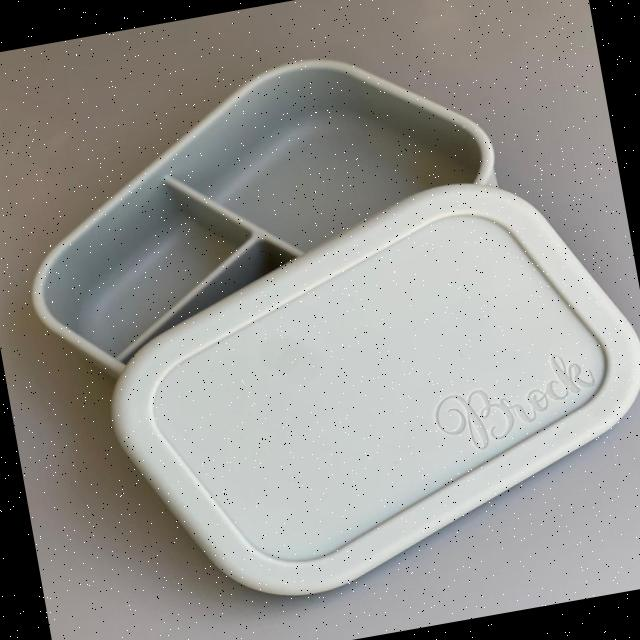styrofoam: (77, 153, 640, 624)
